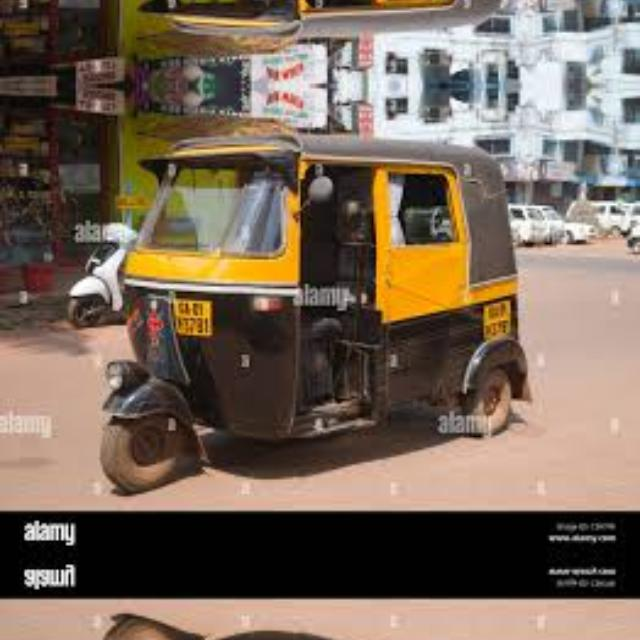person: (84, 117, 556, 483), (83, 0, 556, 53), (83, 625, 556, 640)
